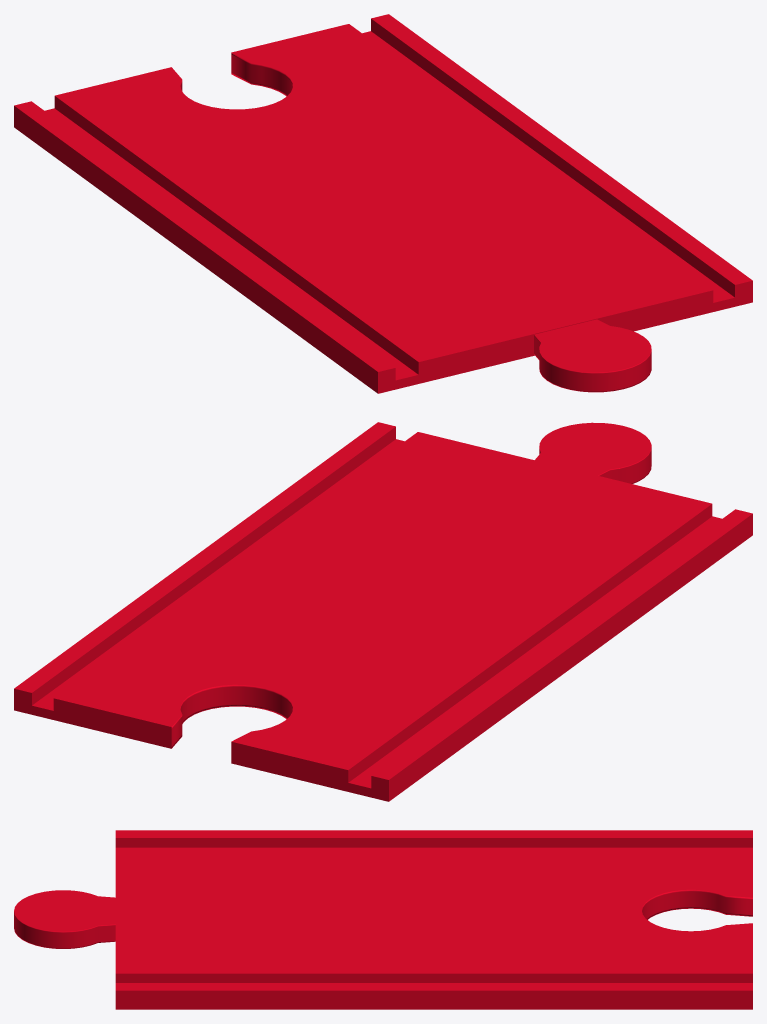
Rendered from Track3.fbx.
3 renders of one model, top to bottom at view 1: azimuth 30°, elevation 25°; view 2: azimuth 150°, elevation 25°; view 3: azimuth 270°, elevation 25°, orthographic. The views are drawn at different scales.
Visible parts, largest first — view 1: Cylinder.008; view 2: Cylinder.008; view 3: Cylinder.008.
Boxes of the visible parts, box(x1,y1,x2,y2) form: Cylinder.008: box(14, 14, 752, 393); Cylinder.008: box(14, 422, 752, 801); Cylinder.008: box(14, 830, 752, 1009).
Size of the model in its own units: 769 by 42.74 by 1500.
